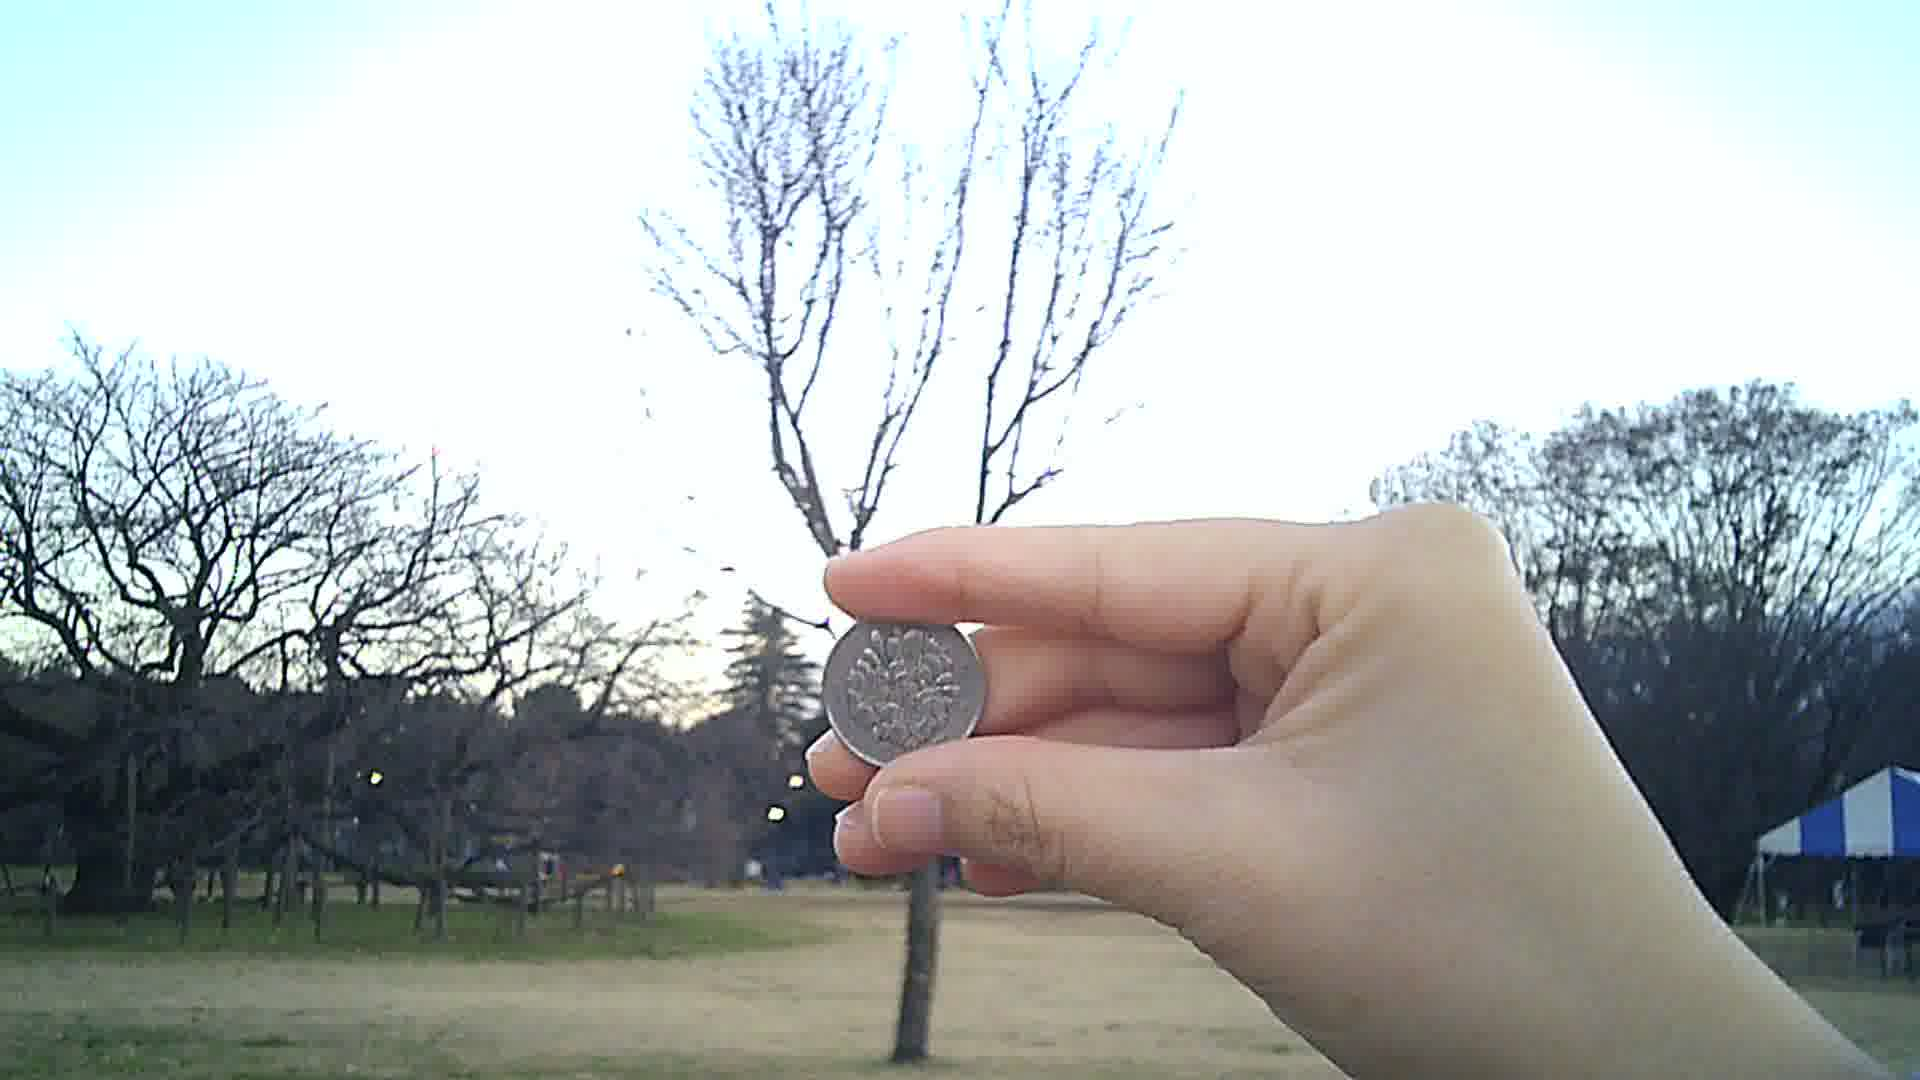100 Yen: (808, 613, 981, 771)
